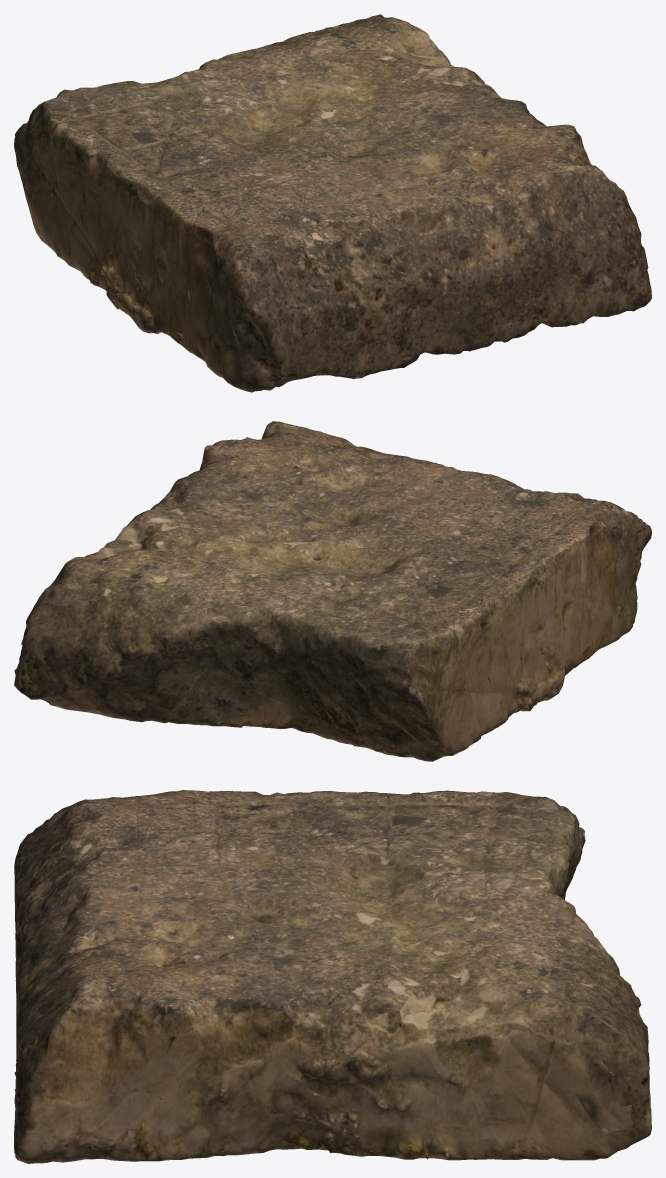
3 views of the same model, one above another, from view 1: azimuth 30°, elevation 25°; view 2: azimuth 150°, elevation 25°; view 3: azimuth 270°, elevation 25° (orthographic). The views are drawn at different scales.
Parts seen in each view (by area): view 1: C22PQ23_25K; view 2: C22PQ23_25K; view 3: C22PQ23_25K.
Part boxes in pixels (x1=…): C22PQ23_25K: x1=14, y1=14, x2=651, y2=392; C22PQ23_25K: x1=14, y1=421, x2=651, y2=761; C22PQ23_25K: x1=14, y1=790, x2=651, y2=1163.
Size of the model in its own units: 0.3593 by 0.1177 by 0.4164.
1 material, 1 textured.
